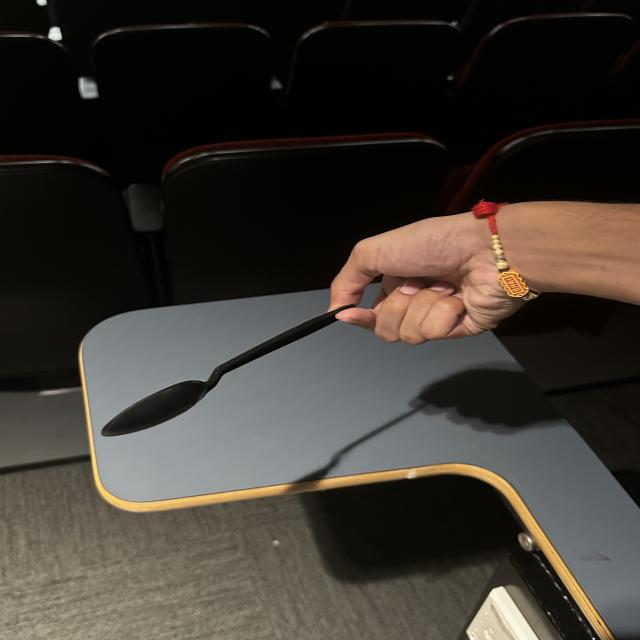spoon: (49, 250, 440, 473)
